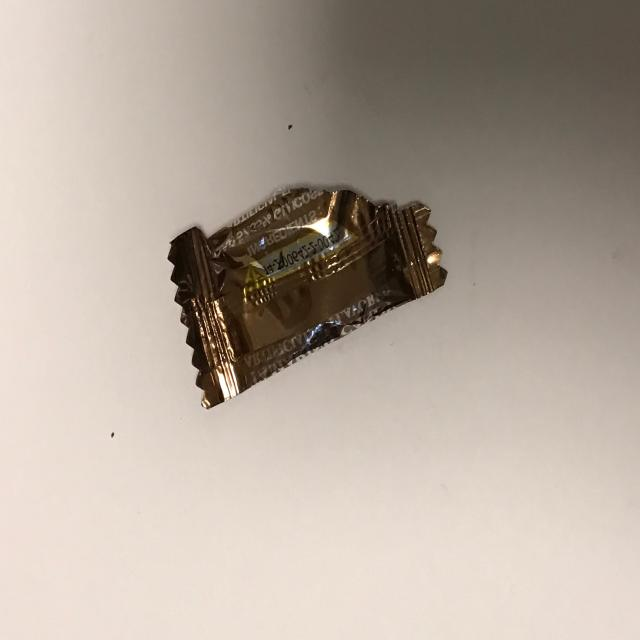trash: (167, 183, 448, 410)
